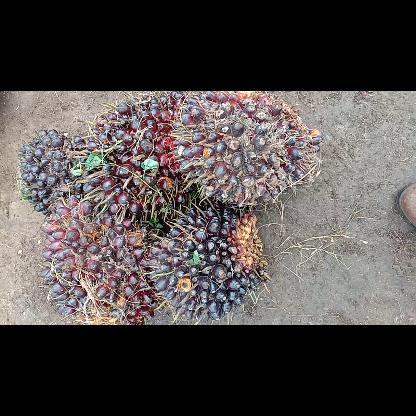TBS mentah: (170, 90, 324, 214), (36, 192, 162, 324), (145, 204, 271, 324), (82, 91, 200, 217), (16, 124, 88, 216)
